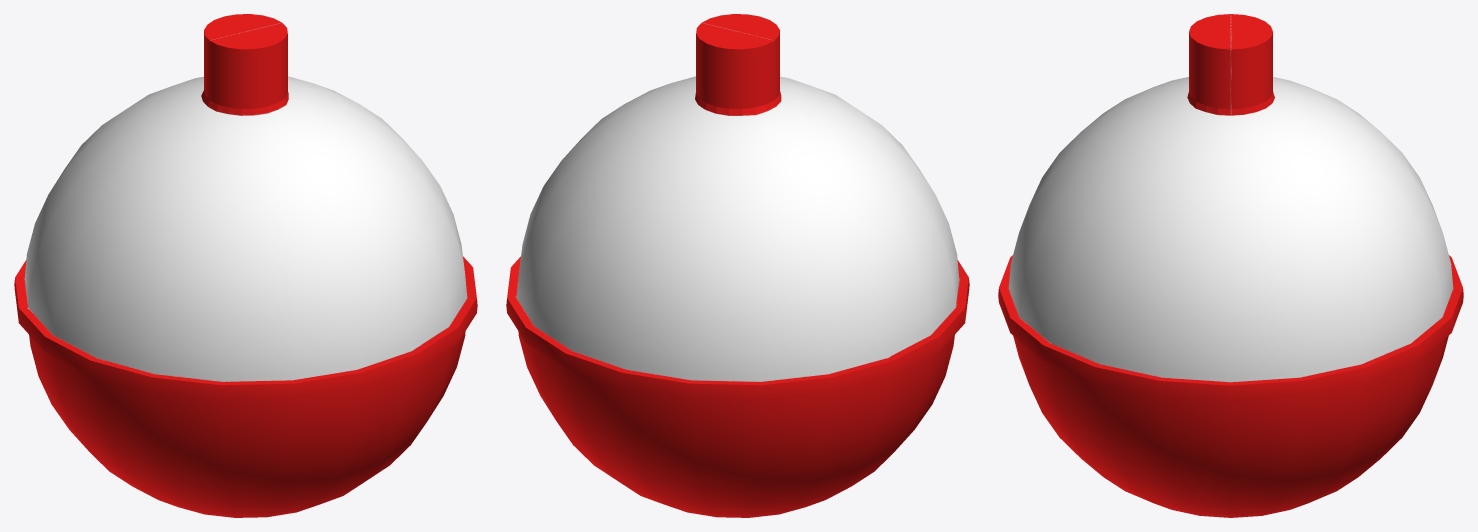
Rendered from bobber.fbx.
3 renders of one model, left to right at view 1: azimuth 30°, elevation 25°; view 2: azimuth 150°, elevation 25°; view 3: azimuth 270°, elevation 25°, orthographic.
Parts seen in each view (by area): view 1: pSphere2; view 2: pSphere2; view 3: pSphere2.
Part boxes in pixels (x1=…): pSphere2: x1=14, y1=14, x2=477, y2=517; pSphere2: x1=506, y1=14, x2=969, y2=517; pSphere2: x1=998, y1=14, x2=1463, y2=517.
Size of the model in its own units: 6.27 by 6.91 by 6.27.
1 material, 1 textured.
